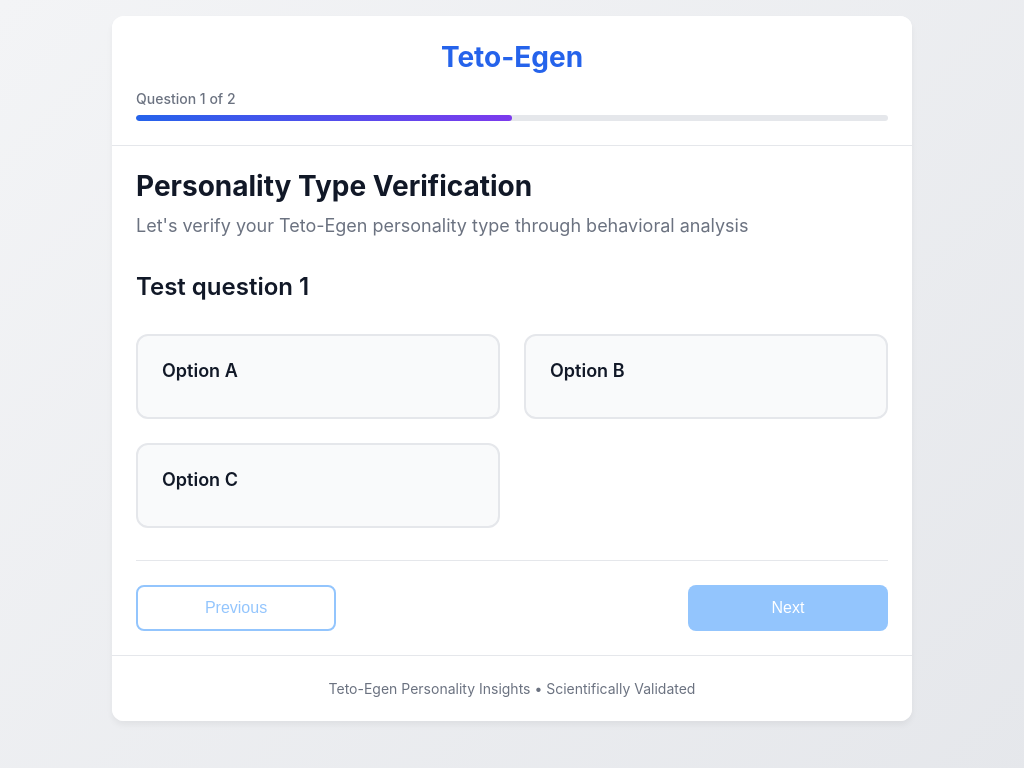
EgentetoInspectionPage › should navigate between questions
// Select an option
Click the radio button "Option A".
click(318, 376)  # box [136,334,500,419]
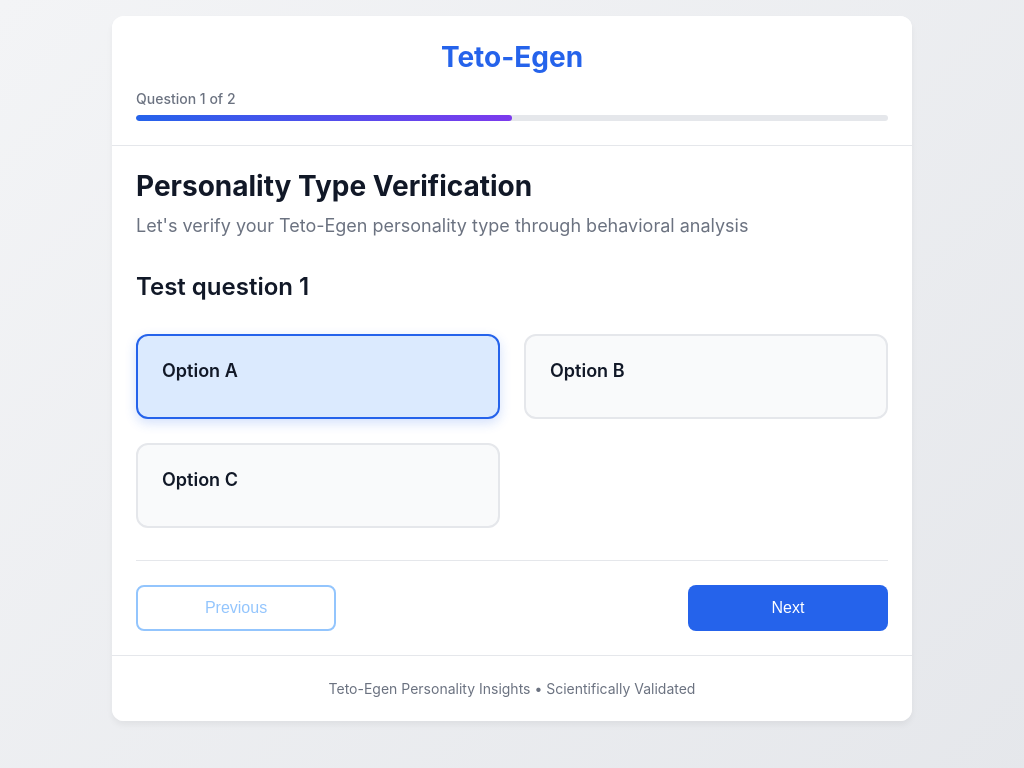
// Click Next
Click the button "Next".
click(788, 608)  # box [688,585,888,631]
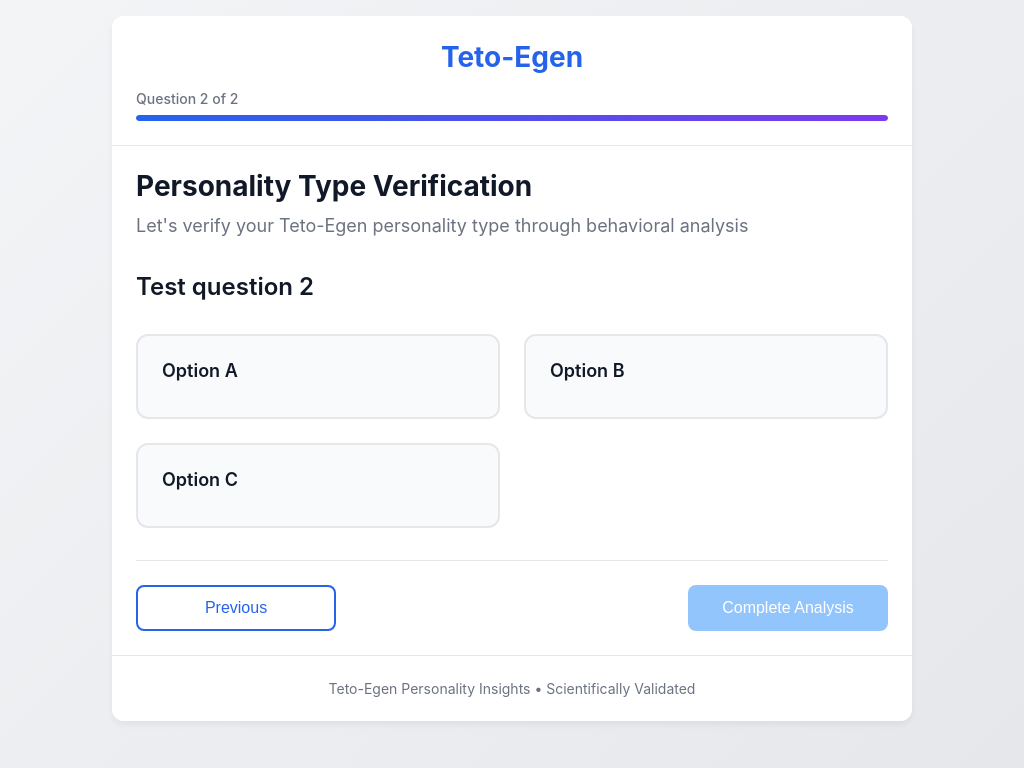
expect the heading "Test question 2" is shown: met, box [136,272,314,301]
// Click Previous
Click the button "Previous".
click(236, 608)  # box [136,585,336,631]
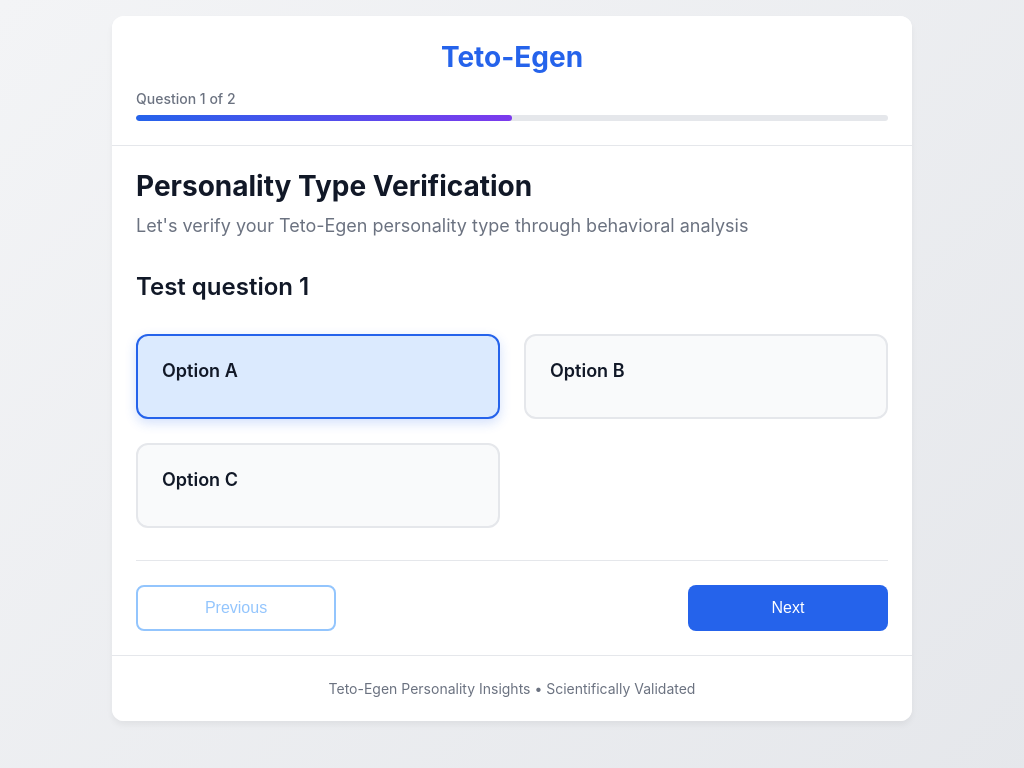
expect the heading "Test question 1" is shown: met, box [136,272,309,301]
